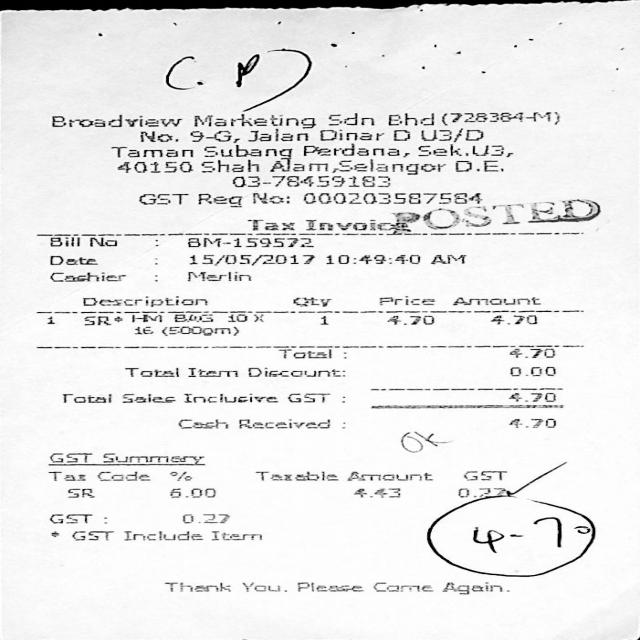text: (268, 158, 444, 175), (302, 192, 482, 203), (230, 174, 387, 186), (194, 114, 313, 128), (439, 111, 557, 125), (83, 314, 212, 326), (51, 114, 179, 126), (301, 142, 407, 156), (188, 254, 312, 264), (82, 296, 206, 306), (418, 144, 512, 156), (203, 144, 290, 156), (303, 219, 406, 229), (185, 238, 312, 246), (102, 452, 203, 462), (182, 393, 274, 403), (256, 470, 337, 481), (246, 367, 340, 376), (236, 418, 330, 427), (325, 254, 418, 263), (115, 161, 191, 172), (109, 146, 190, 156), (121, 530, 201, 540), (245, 128, 306, 141), (421, 128, 480, 141), (347, 472, 431, 481), (199, 159, 257, 172), (443, 581, 502, 593), (318, 129, 382, 140), (451, 296, 539, 304), (48, 272, 124, 281), (162, 326, 236, 335), (296, 582, 362, 592), (164, 582, 229, 592), (96, 470, 151, 481), (371, 582, 431, 592), (326, 112, 372, 125), (48, 237, 114, 246), (188, 130, 237, 142), (197, 192, 238, 206), (139, 192, 186, 204), (123, 367, 179, 377), (387, 113, 432, 125), (278, 348, 332, 358), (120, 393, 174, 403), (291, 294, 329, 308), (176, 418, 228, 428), (186, 367, 237, 377), (455, 160, 501, 171), (352, 487, 402, 497), (210, 530, 260, 540), (187, 272, 248, 280), (180, 513, 228, 523), (246, 219, 293, 229), (169, 487, 215, 497), (457, 487, 503, 497), (46, 513, 92, 523), (60, 393, 111, 402), (508, 392, 557, 401), (377, 296, 432, 304), (509, 366, 553, 376), (47, 452, 91, 462), (69, 530, 113, 540), (49, 255, 95, 264), (510, 348, 555, 357), (286, 393, 330, 402), (251, 192, 290, 202), (463, 471, 506, 480), (507, 418, 555, 426), (488, 316, 535, 324), (386, 316, 433, 324), (240, 582, 280, 591), (140, 130, 175, 140), (226, 313, 264, 322), (47, 471, 84, 480), (430, 254, 464, 262), (66, 487, 93, 497), (168, 470, 192, 481), (394, 129, 408, 140), (134, 326, 151, 334), (318, 316, 326, 324), (46, 316, 54, 324)
